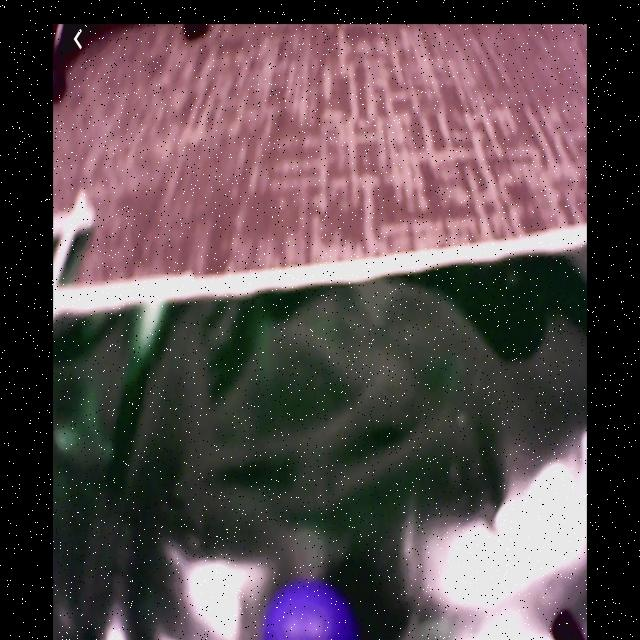ball: (261, 580, 357, 640)
